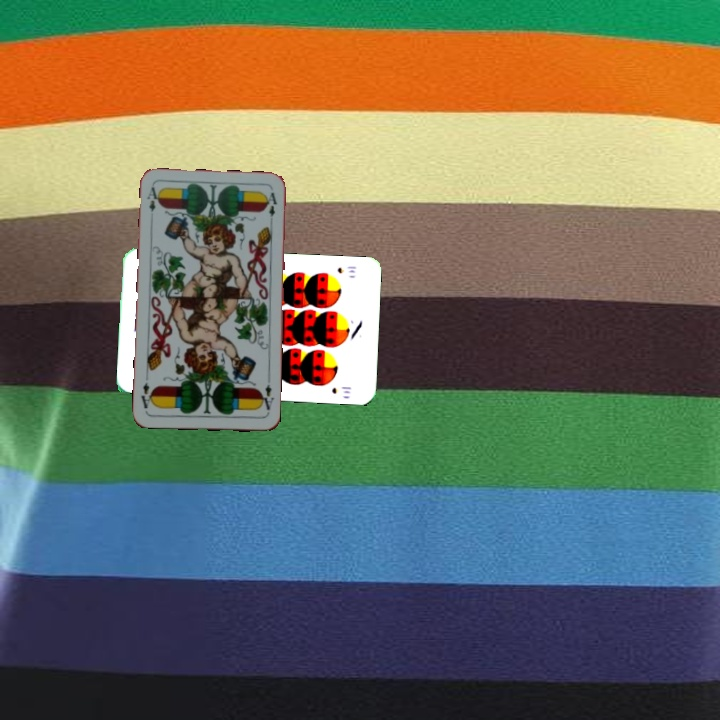EA: (143, 183, 162, 223), (256, 375, 276, 412)
S10: (334, 262, 359, 276)
